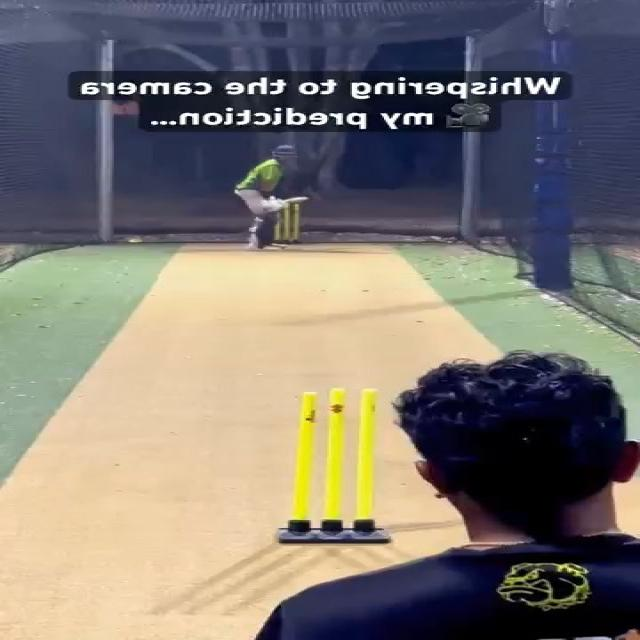stump: (274, 387, 393, 546), (273, 203, 302, 245)
